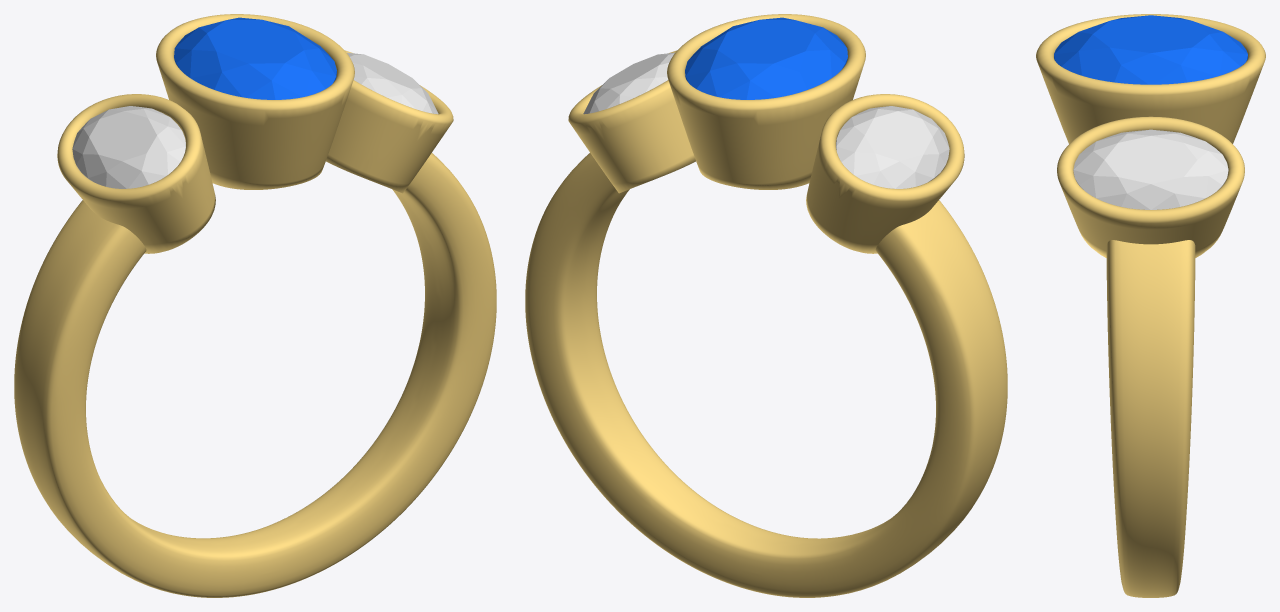
File: bluesapphire-oval-yellowgold-bezelset-straighttaperedband-3stone.glb
3 renders of one model, left to right at view 1: azimuth 30°, elevation 25°; view 2: azimuth 150°, elevation 25°; view 3: azimuth 270°, elevation 25°, orthographic.
Parts seen in each view (by area): view 1: metal, stone.002, side.004, side.005; view 2: metal, stone.002, side.004, side.005; view 3: metal, stone.002, side.005.
Boxes of the visible parts, bbox=[...] form: metal: bbox=[14, 14, 496, 597]; stone.002: bbox=[174, 17, 336, 99]; side.004: bbox=[72, 106, 185, 188]; side.005: bbox=[347, 52, 438, 114]; metal: bbox=[525, 14, 1007, 597]; stone.002: bbox=[685, 17, 847, 99]; side.004: bbox=[836, 106, 949, 188]; side.005: bbox=[583, 52, 674, 114]; metal: bbox=[1036, 14, 1265, 597]; stone.002: bbox=[1054, 15, 1247, 84]; side.005: bbox=[1073, 129, 1228, 209].
Size of the model in its own units: 20.5 by 23.41 by 9.04.
